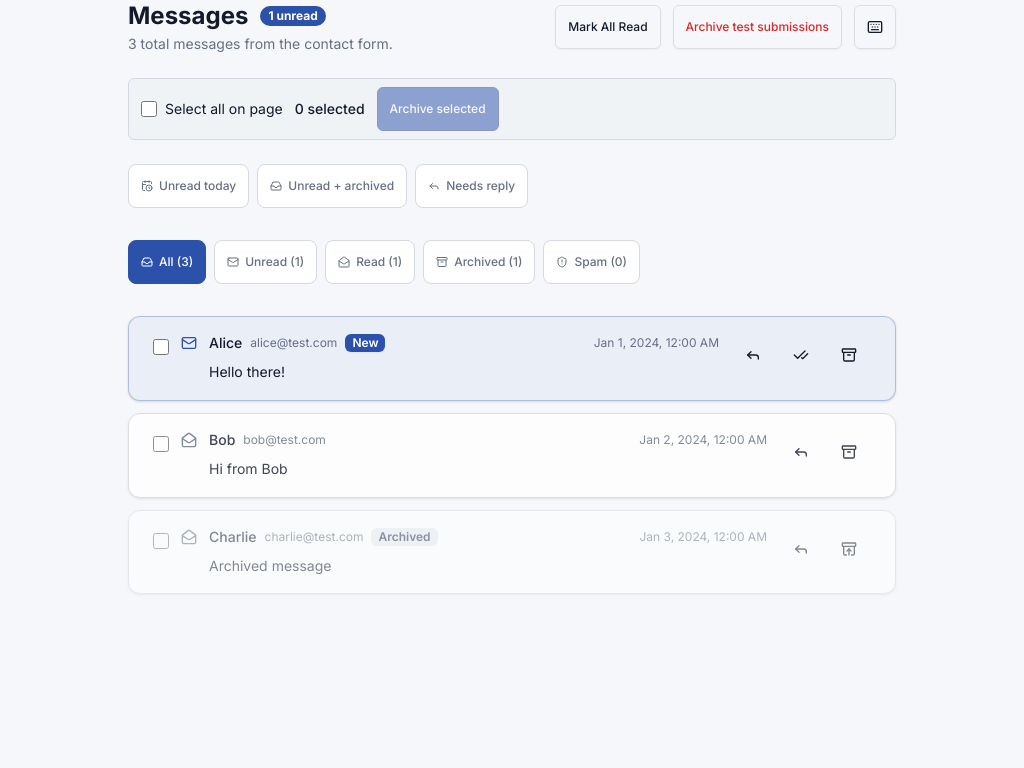
MessagesViewer › replies to the row under the cursor with 'r' even with a multi-selection
Expected: the text "Alice" is shown, top-left (209, 333), bottom-right (242, 353)
Click the checkbox named "Select message from Alice". click: (161,347)
box: top-left (153, 339), bottom-right (169, 355)
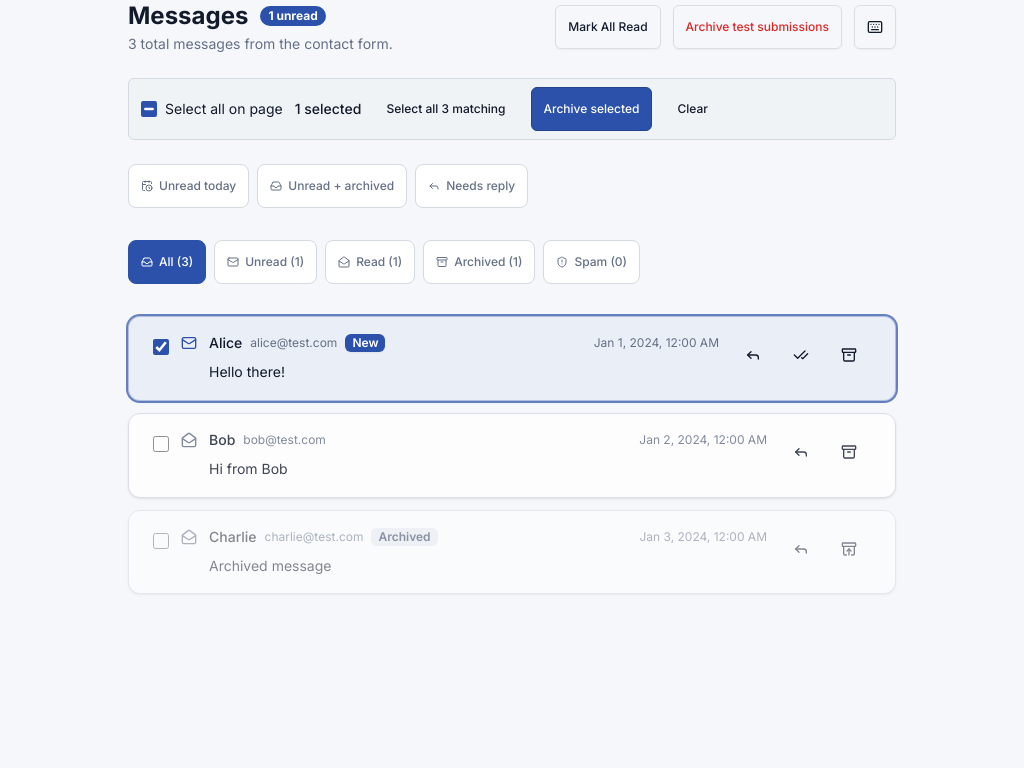
Click the checkbox named "Select message from Bob". click: (161,444)
box: top-left (153, 436), bottom-right (169, 452)
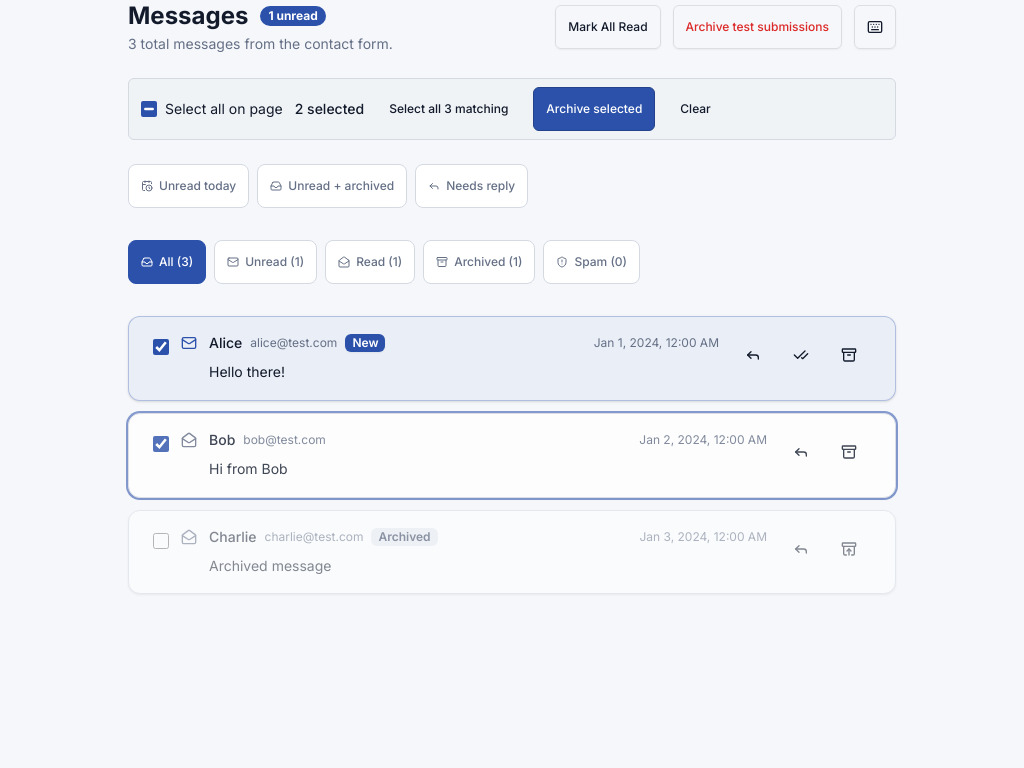
Press r
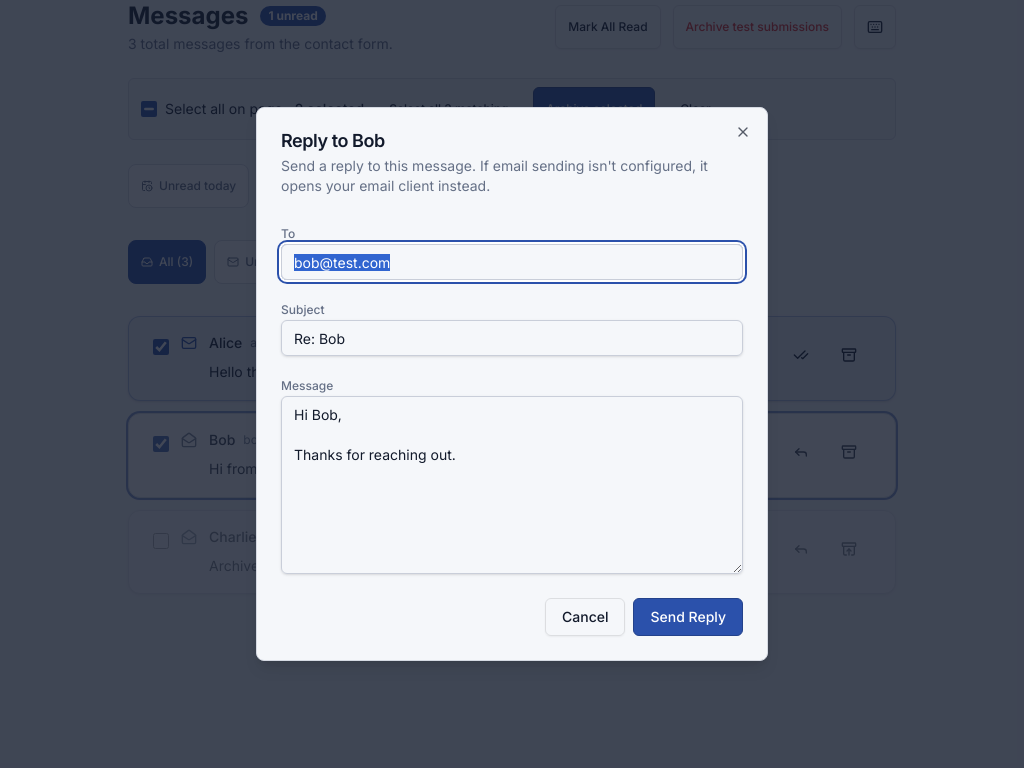
Result: the heading "Reply to Bob" is shown at top-left (281, 130), bottom-right (385, 151)
